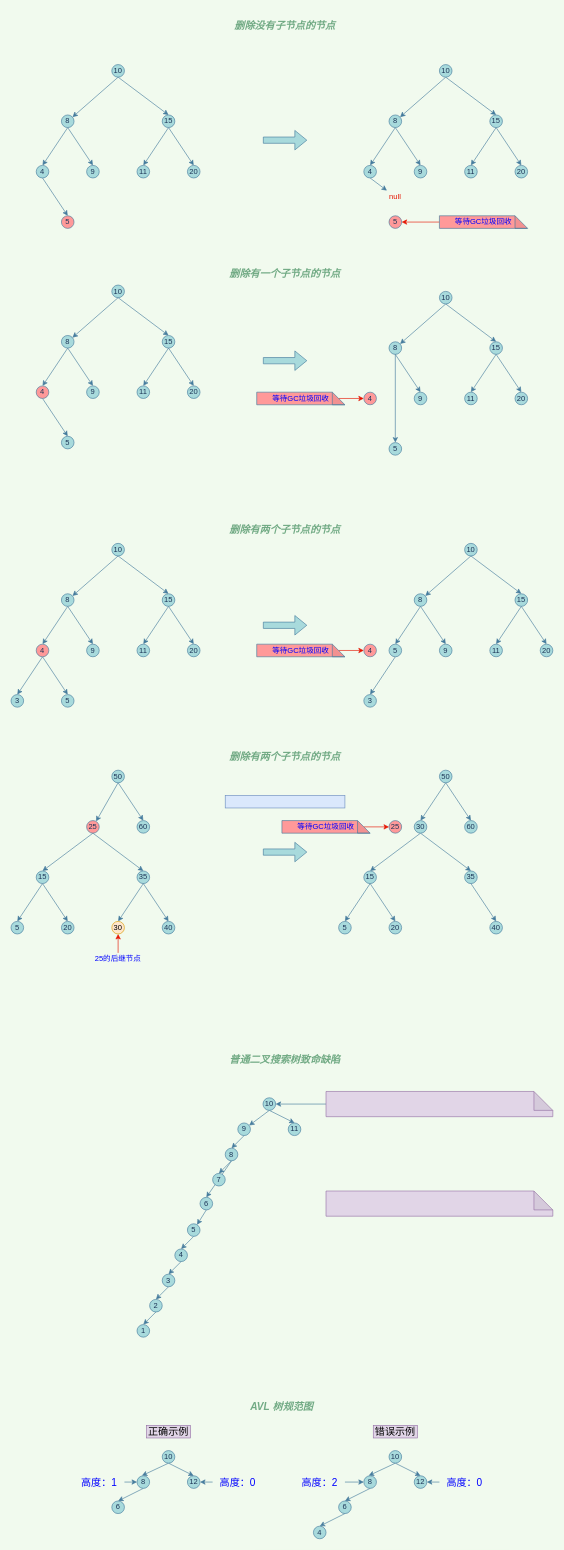
The diagram is 564 pixels wide and 1550 high, and some of its shapes have lost their labels. Here are the shapes that lost their labels. From the top down, the centre of each, then its label:
At point 285,801: "删除节点用中序后继节点来代替".
At point 439,1104: "这是一颗符合规范的二叉搜索数，完全没毛病".
At point 439,1203: "极端情况，二叉树退化成为线性链表...".
